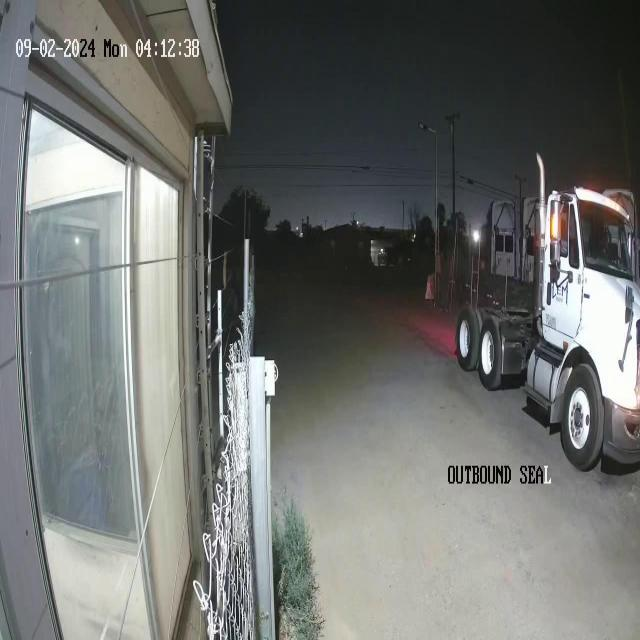TRUCK_IN: (454, 152, 640, 474)
